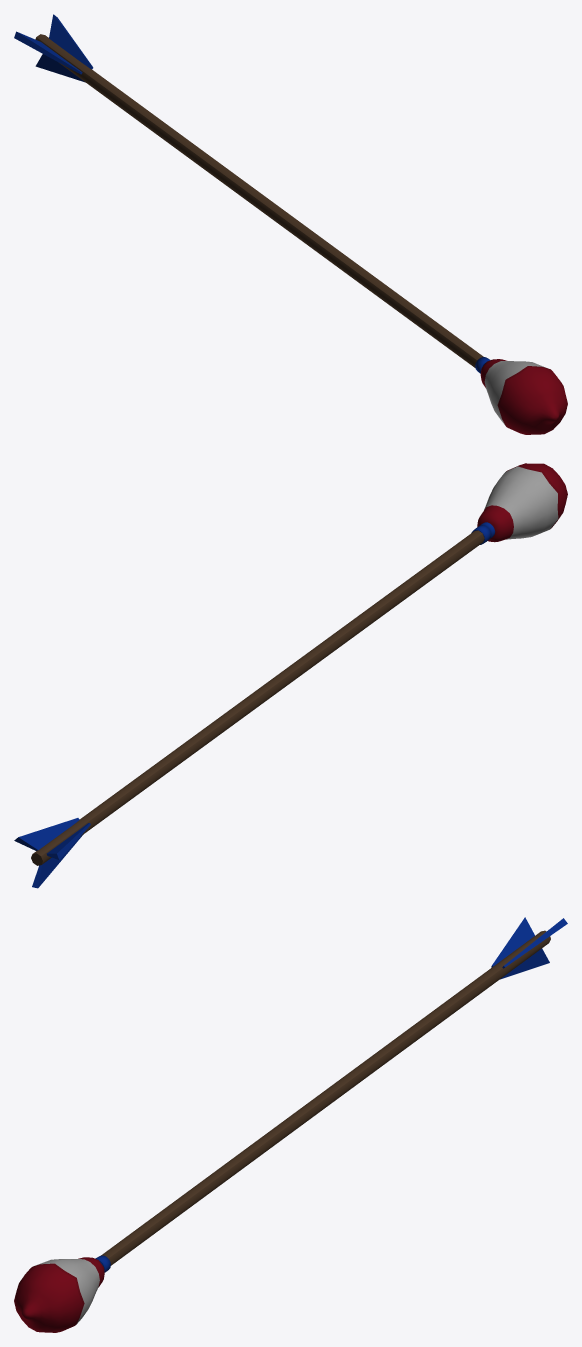
File: Arrow_Fix.fbx
The picture shows the model from 3 angles, top to bottom: view 1: azimuth 30°, elevation 25°; view 2: azimuth 150°, elevation 25°; view 3: azimuth 330°, elevation 25°; orthographic projection.
Visible parts, largest first — view 1: Arrow, Bomb; view 2: Arrow, Bomb; view 3: Arrow, Bomb.
Part boxes in pixels (<box>): Arrow: <box>14,14,490,373</box>; Bomb: <box>480,359,567,434</box>; Arrow: <box>14,522,495,888</box>; Bomb: <box>477,463,567,542</box>; Arrow: <box>95,917,567,1272</box>; Bomb: <box>14,1257,104,1332</box>.
Bounding box in the file's own units: 0.1784 × 0.1784 × 2.64.
